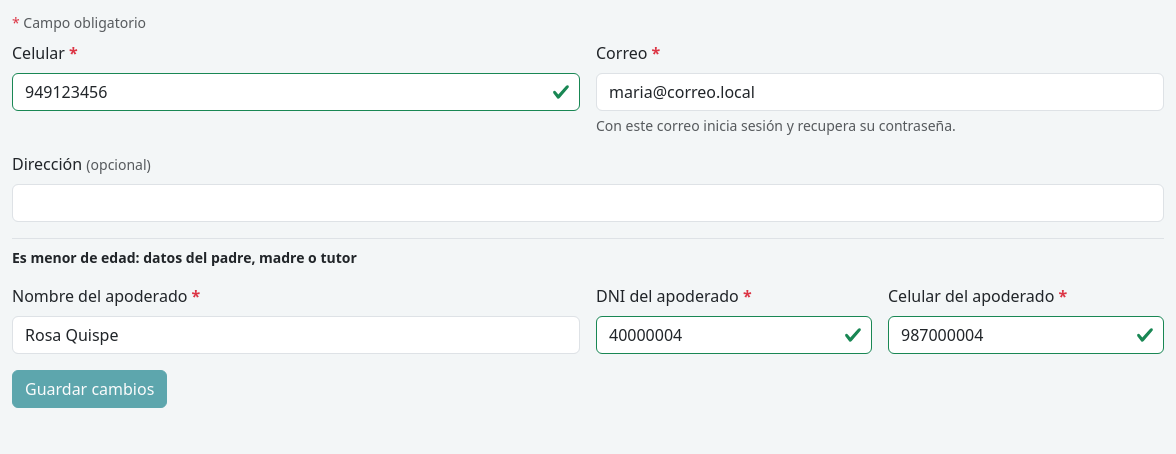
Test: «Mis datos» › menor: aparecen los 3 datos del apoderado y no puede dejarlos vacíos
Clear the field labelled "Nombre del apoderado" at coordinates (296, 335), box [12,316,580,354]
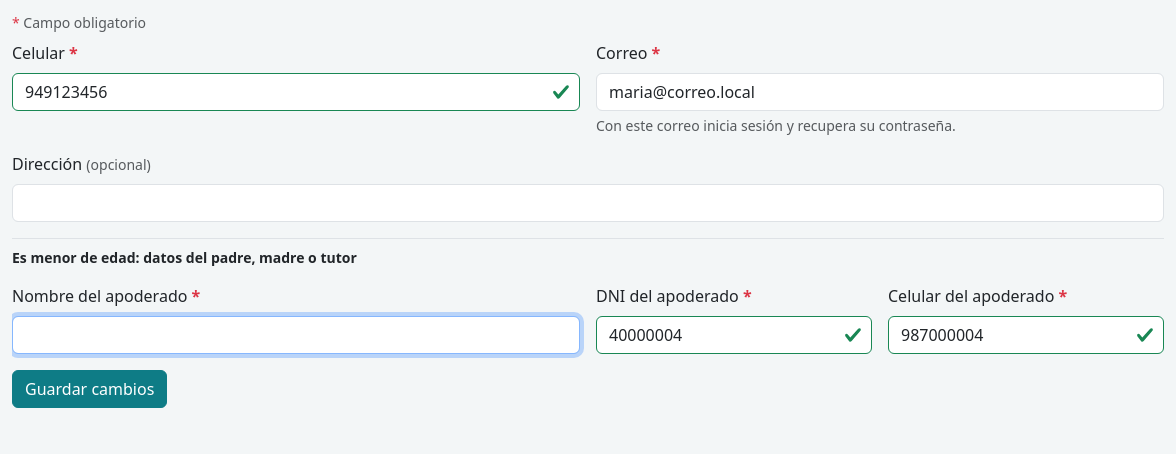
Click the button "Guardar cambios" at coordinates (90, 389), box [12,370,167,408]
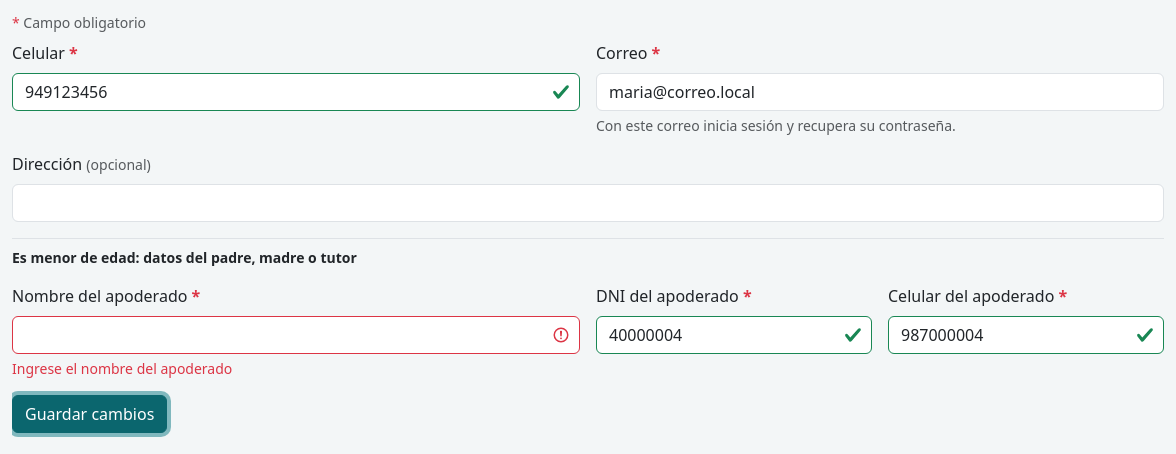
Expected: the text "Ingrese el nombre del apoderado" is shown, [12,359,232,378]
